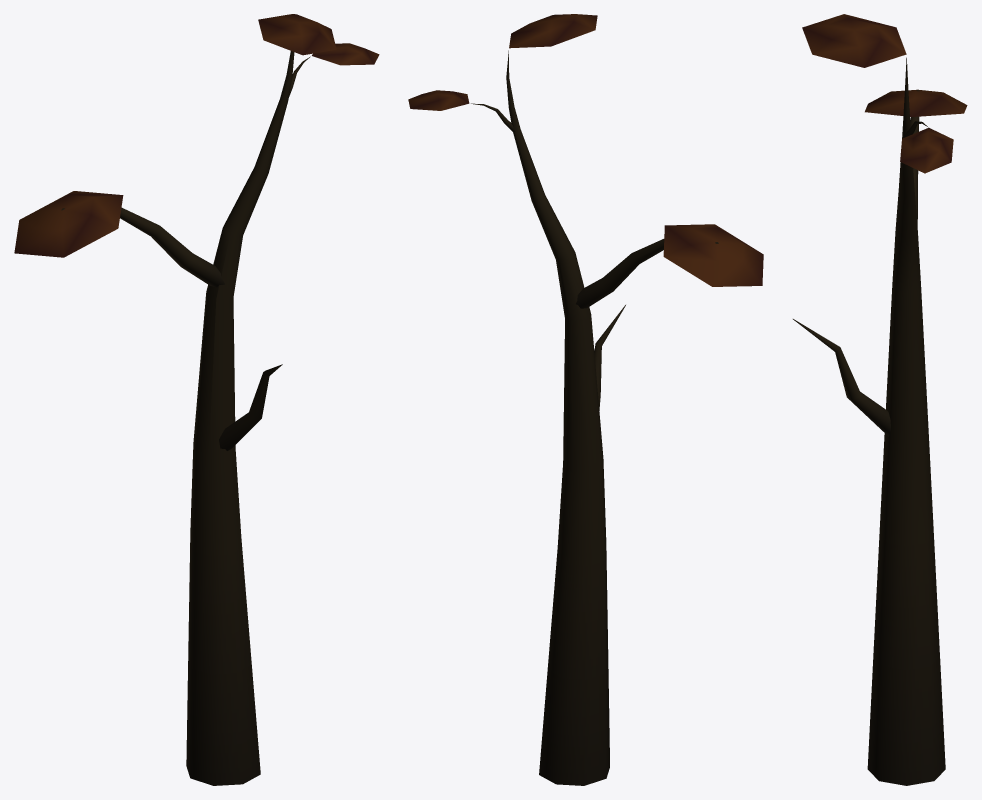
The model's file is SM_Tree_002.fbx.
3 renders of one model, left to right at view 1: azimuth 30°, elevation 25°; view 2: azimuth 150°, elevation 25°; view 3: azimuth 270°, elevation 25°, orthographic. The views are drawn at different scales.
Parts seen in each view (by area): view 1: SM_Tree_002; view 2: SM_Tree_002; view 3: SM_Tree_002.
Boxes of the visible parts, x1,y1,x2,y2 form: SM_Tree_002: (14,14,379,785); SM_Tree_002: (408,14,763,785); SM_Tree_002: (793,14,967,785).
Size of the model in its own units: 96.89 by 190 by 39.4.
